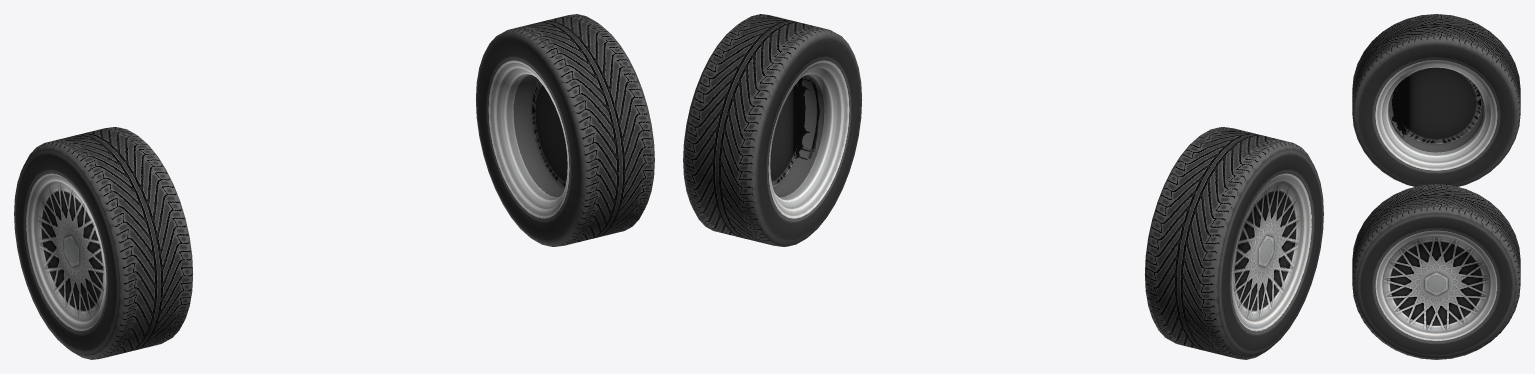
File: bmw_tire.obj
3 renders of one model, left to right at view 1: azimuth 30°, elevation 25°; view 2: azimuth 150°, elevation 25°; view 3: azimuth 270°, elevation 25°, orthographic. The views are drawn at different scales.
Visible parts, largest first — view 1: LowTire; view 2: LowTire; view 3: LowTire.
Boxes of the visible parts, x1=… form: LowTire: x1=14, y1=14, x2=654, y2=359; LowTire: x1=683, y1=14, x2=1323, y2=359; LowTire: x1=1352, y1=14, x2=1520, y2=359.
Size of the model in its own units: 3.33 by 1.2 by 1.2.
Materials: 1 (1 with a texture image).
